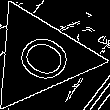O_SE: (3, 25, 76, 89)
